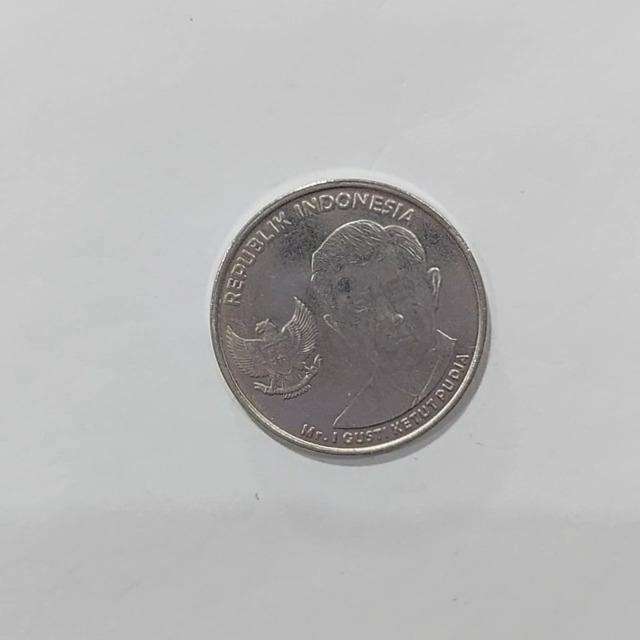Rp100: (208, 173, 490, 462)
